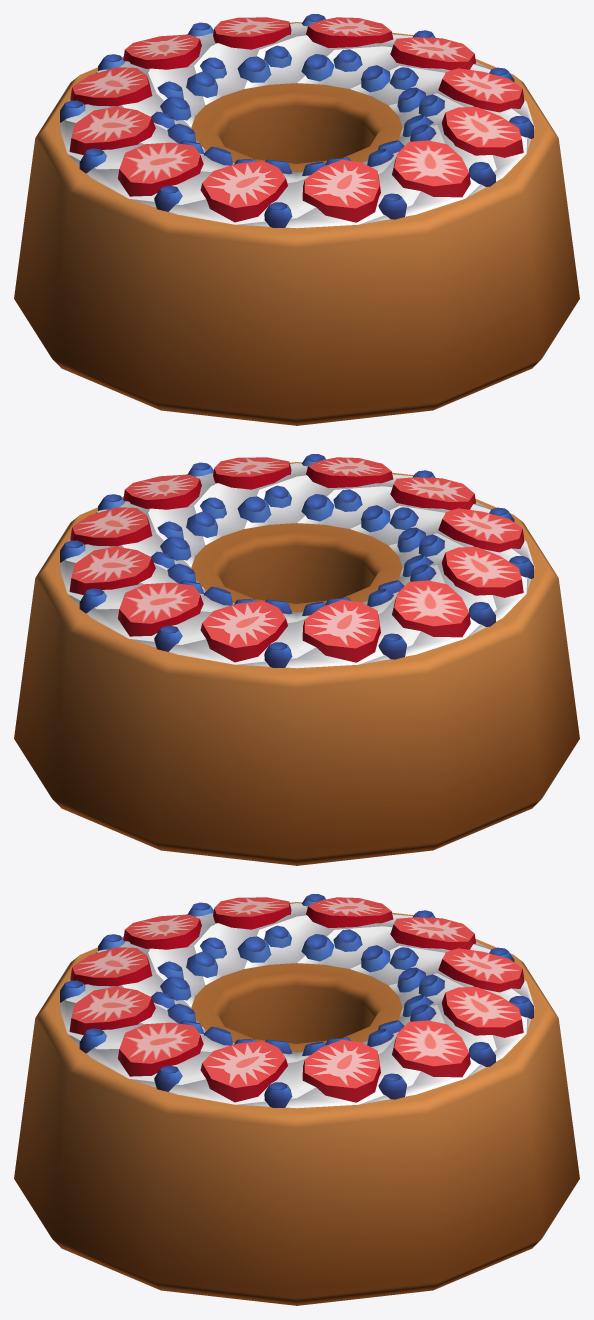
The model's file is m_AngelFoodCake02.fbx.
The picture shows the model from 3 angles, top to bottom: view 1: azimuth 30°, elevation 25°; view 2: azimuth 150°, elevation 25°; view 3: azimuth 270°, elevation 25°; orthographic projection.
Visible parts, largest first — view 1: m_AngelFoodCake02; view 2: m_AngelFoodCake02; view 3: m_AngelFoodCake02.
Boxes of the visible parts, x1,y1,x2,y2 form: m_AngelFoodCake02: (14, 14, 579, 425); m_AngelFoodCake02: (14, 454, 579, 865); m_AngelFoodCake02: (14, 894, 579, 1305).
Bounding box in the file's own units: 25.2 × 10.45 × 25.2.
